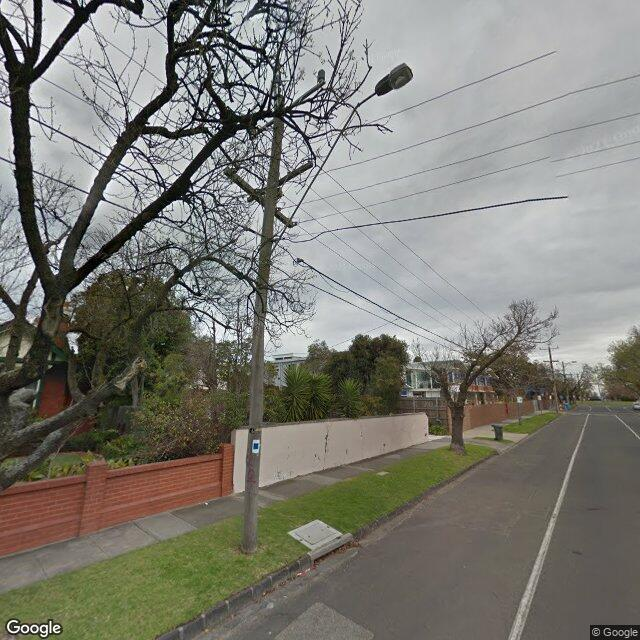HV-transmission: (274, 69, 326, 97), (540, 344, 558, 350)
crossarm: (250, 80, 325, 140), (223, 166, 293, 228), (246, 161, 313, 203), (540, 347, 559, 350), (543, 361, 559, 362)
streetlight: (265, 62, 413, 266), (564, 361, 577, 368)
timber-pole: (242, 94, 284, 554), (548, 343, 558, 414), (562, 361, 568, 403)
